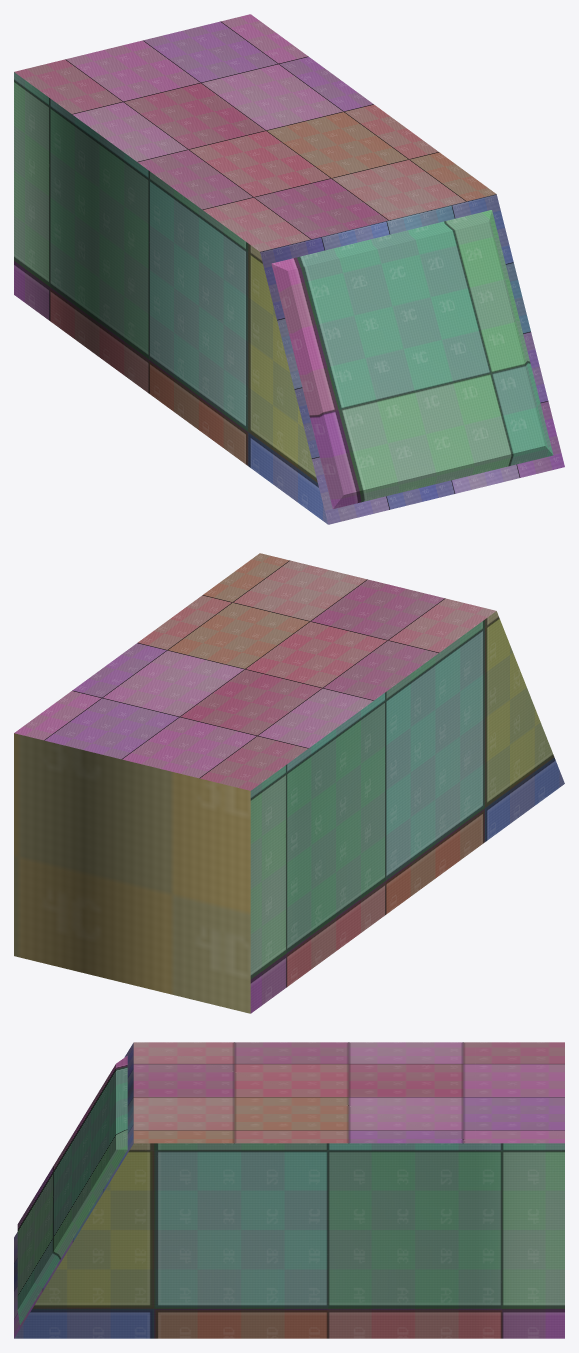
File: tile_display_case_0.glb
3 renders of one model, top to bottom at view 1: azimuth 30°, elevation 25°; view 2: azimuth 150°, elevation 25°; view 3: azimuth 270°, elevation 25°, orthographic. The views are drawn at different scales.
Parts seen in each view (by area): view 1: tile_display_case_flat; view 2: tile_display_case_flat; view 3: tile_display_case_flat.
Part boxes in pixels (x1,y1,x2,y2): tile_display_case_flat: (14,14,564,524); tile_display_case_flat: (14,553,564,1013); tile_display_case_flat: (14,1042,564,1338).
Bounding box in the file's own units: 1 × 0.9 × 2.3.
1 material, 1 textured.
